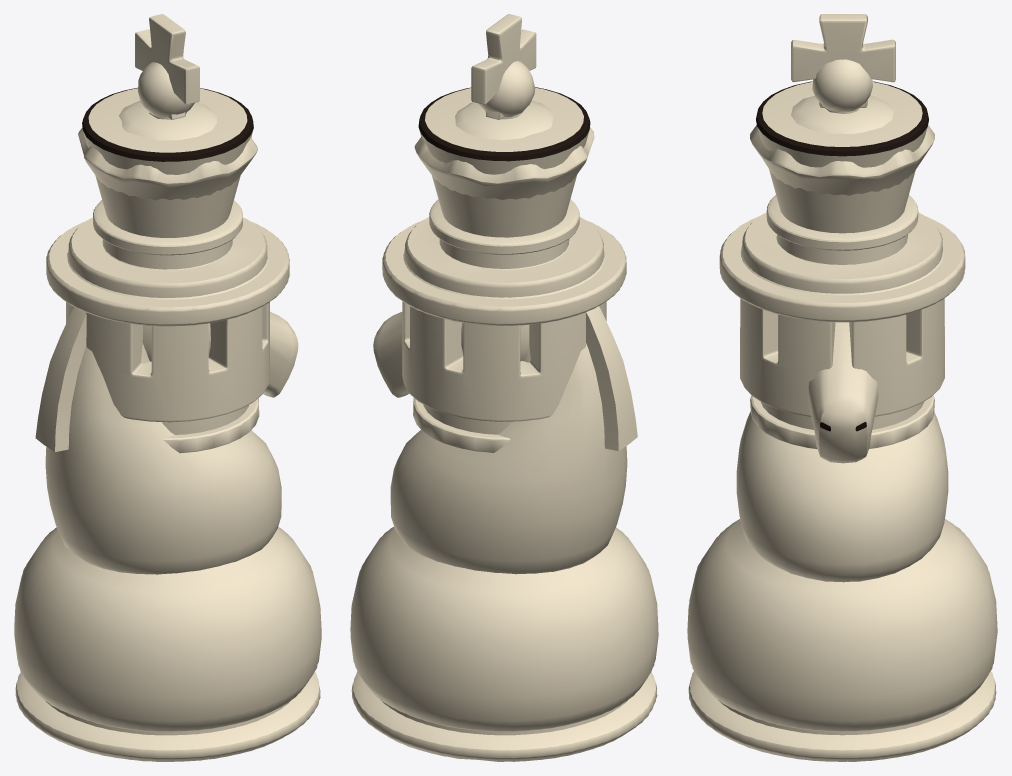
Rendered from taslar.glb.
3 renders of one model, left to right at view 1: azimuth 30°, elevation 25°; view 2: azimuth 150°, elevation 25°; view 3: azimuth 270°, elevation 25°, orthographic.
Parts seen in each view (by area): view 1: sah-beyaz-govde, vezir-beyaz-govde, at-beyaz-govde, kale-beyaz-govde, sah-beyaz-ayrinti, fil-beyaz-govde; view 2: sah-beyaz-govde, vezir-beyaz-govde, at-beyaz-govde, kale-beyaz-govde, fil-beyaz-govde, sah-beyaz-ayrinti; view 3: sah-beyaz-govde, vezir-beyaz-govde, at-beyaz-govde, kale-beyaz-govde, fil-beyaz-govde, sah-beyaz-ayrinti.
Part boxes in pixels (x1,y1,x2,y2): sah-beyaz-govde: (14, 14, 321, 761); vezir-beyaz-govde: (14, 62, 321, 761); at-beyaz-govde: (35, 307, 298, 574); kale-beyaz-govde: (66, 302, 269, 434); sah-beyaz-ayrinti: (82, 87, 253, 161); fil-beyaz-govde: (142, 323, 259, 453); sah-beyaz-govde: (350, 14, 658, 761); vezir-beyaz-govde: (350, 61, 658, 761); at-beyaz-govde: (373, 306, 637, 574); kale-beyaz-govde: (402, 301, 606, 434); fil-beyaz-govde: (413, 322, 529, 452); sah-beyaz-ayrinti: (418, 87, 590, 161); sah-beyaz-govde: (687, 14, 997, 761); vezir-beyaz-govde: (687, 59, 997, 761); at-beyaz-govde: (736, 322, 948, 582); kale-beyaz-govde: (740, 298, 944, 429); fil-beyaz-govde: (750, 395, 934, 448); sah-beyaz-ayrinti: (756, 81, 928, 156).
Size of the model in its own units: 0.0382 by 0.0929 by 0.0382.
